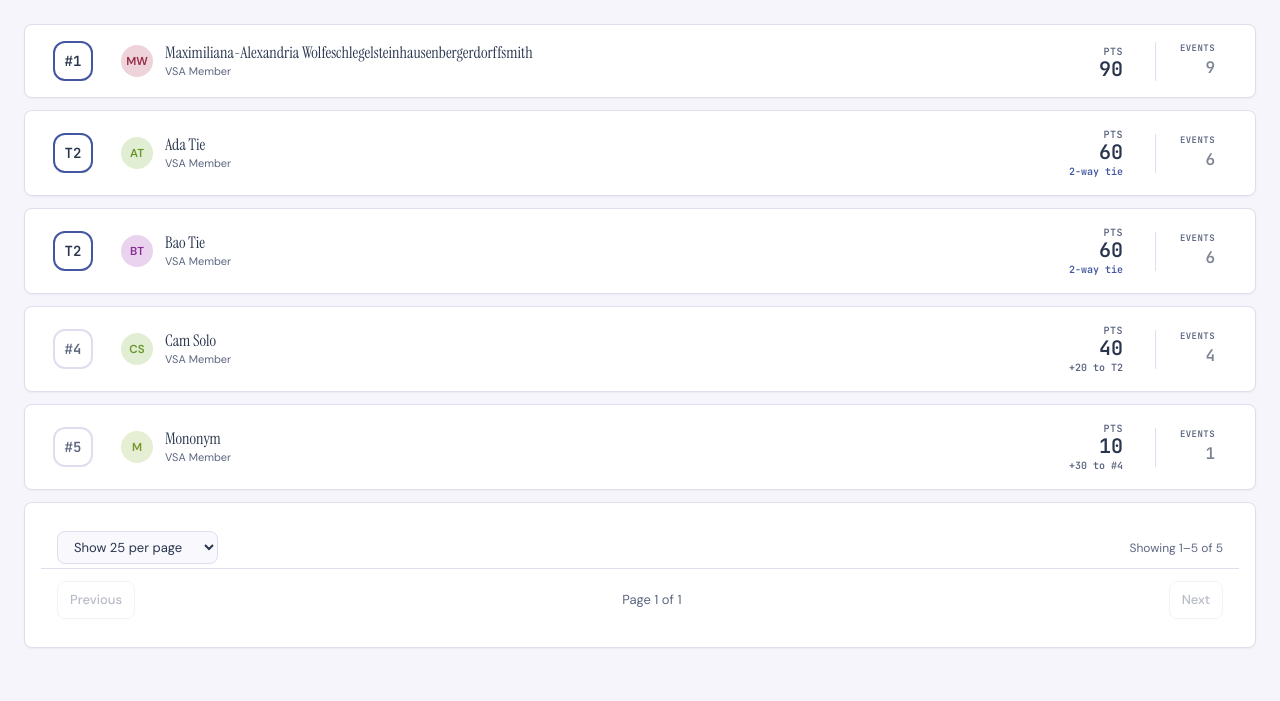
Test case: Leaderboard member profile on phones › opens on name and totals with history collapsed behind a tappable header
The width and height of the screenshot is (1280, 701).
(page scrolled)
What coordinates should you click on to do the following:
click the button with aria-label "Open profile for Cam Solo"
I would click on:
 (191, 341)
Its box is left=165, top=331, right=216, bottom=351.
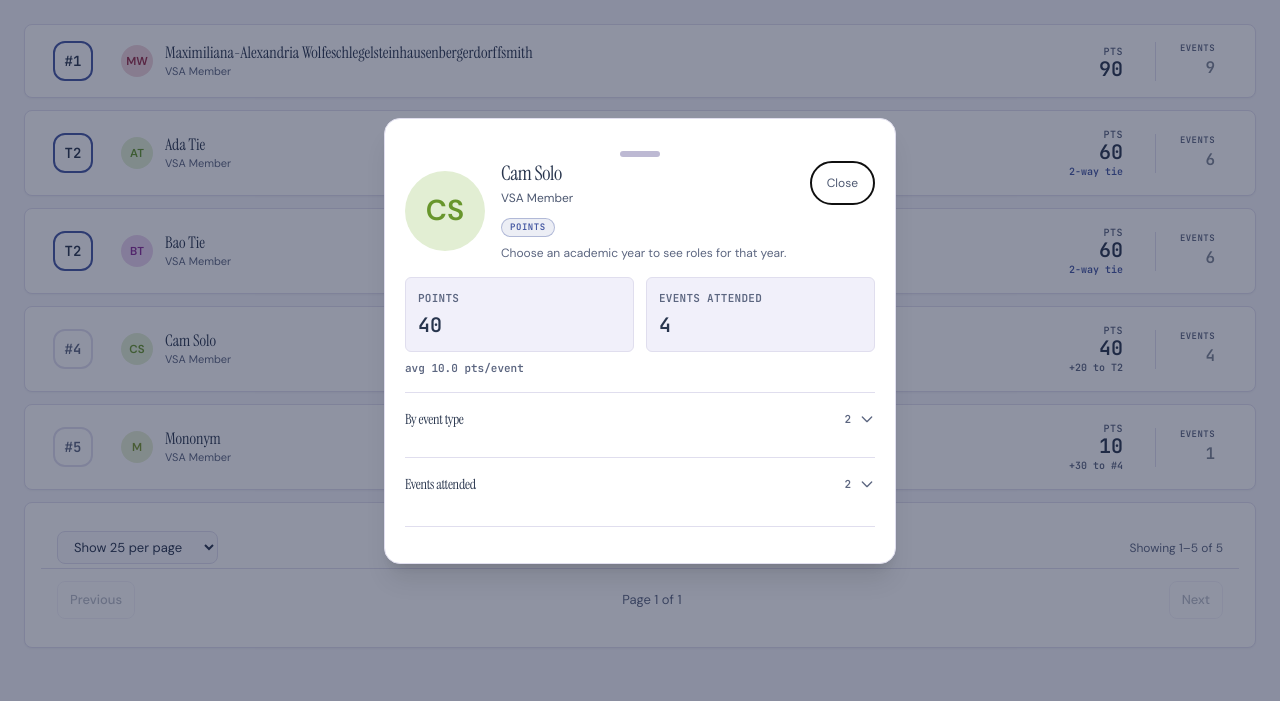
Expected: the text "GBM #1" is not shown
What coordinates should you click on to do the following:
click the button "Events attended 2"
I would click on:
 (440, 484)
Its box is left=405, top=462, right=875, bottom=506.
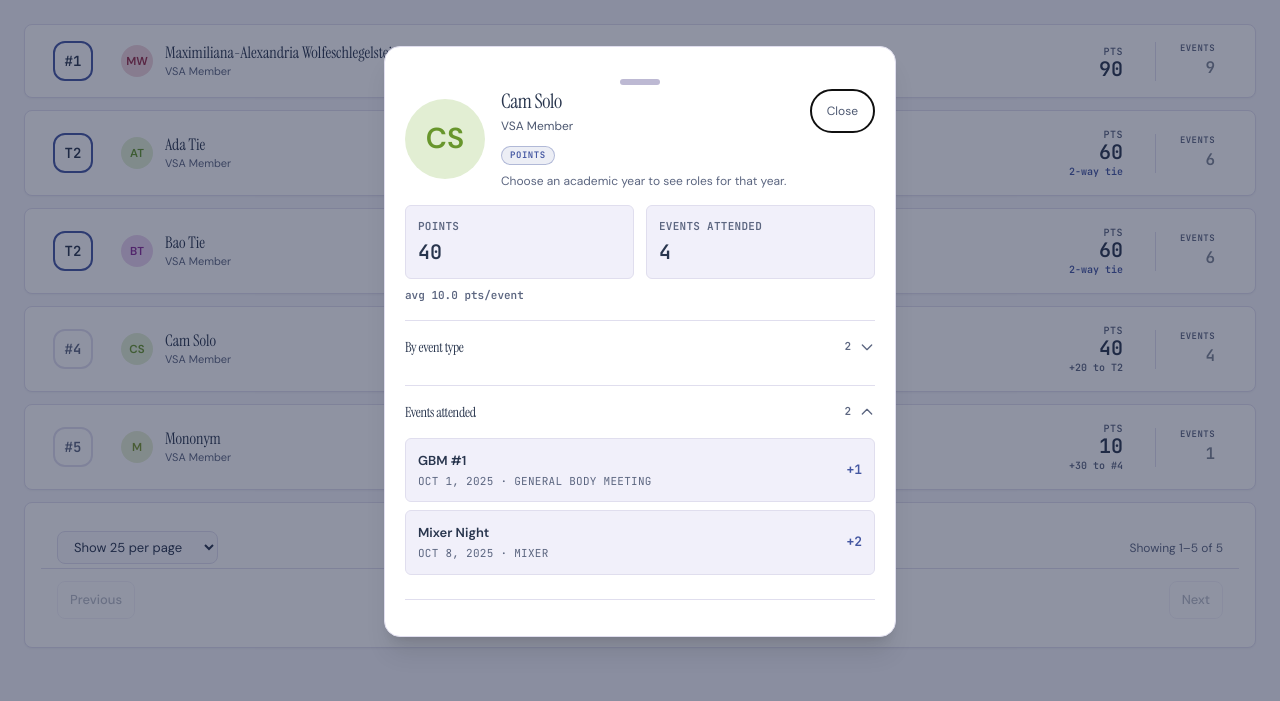
Now the button "Events attended 2" is expanded, box left=405, top=390, right=875, bottom=434
Now the text "GBM #1" is shown, box left=418, top=452, right=466, bottom=468
